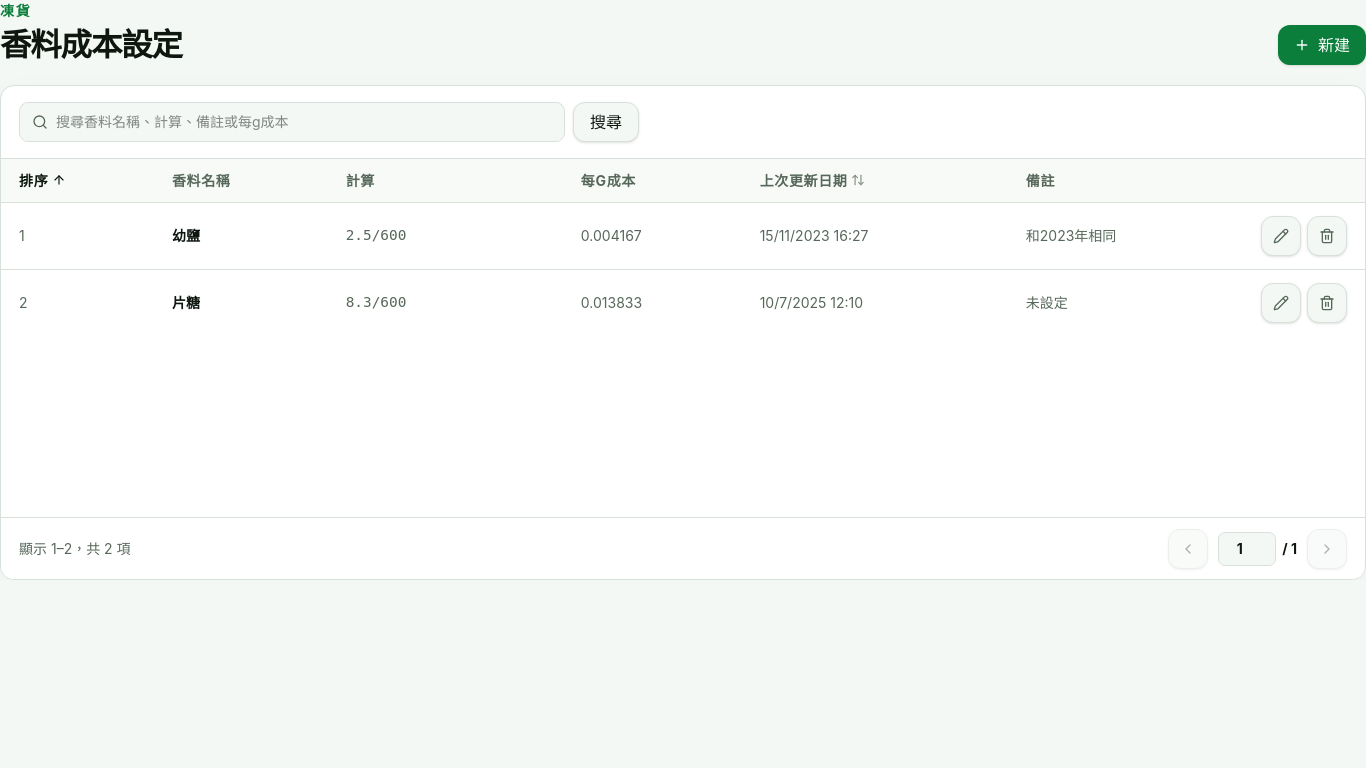
Test case: Seasoning cost settings page › opens the edit panel and updates calculation and remark
This screenshot has width=1366, height=768.
Expected: the text "幼鹽" is shown, top-left (172, 227), bottom-right (200, 244)
Click the button named "編輯" in the row of "幼鹽".
click(1281, 236)  # box top-left (1261, 216), bottom-right (1301, 256)
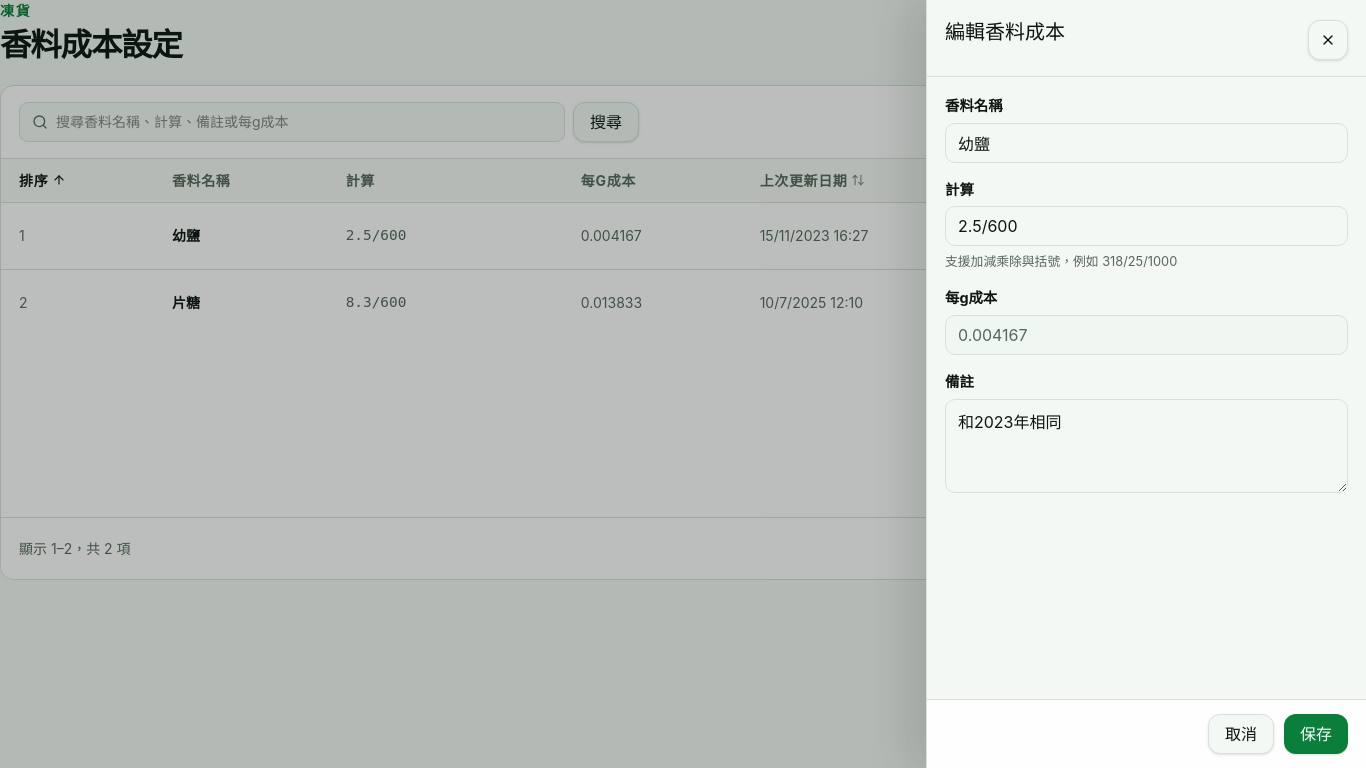
Result: the field with placeholder "例如：幼鹽" holds "幼鹽" at top-left (945, 123), bottom-right (1348, 163)
Result: the field with placeholder "例如：2.5/600" holds "2.5/600"
Result: the text box with placeholder "輸入備註" holds "和2023年相同" at top-left (945, 399), bottom-right (1348, 493)
Replace the text in the field with placeholder "例如：2.5/600" with "3/600" at (1146, 226), box top-left (945, 206), bottom-right (1348, 246)
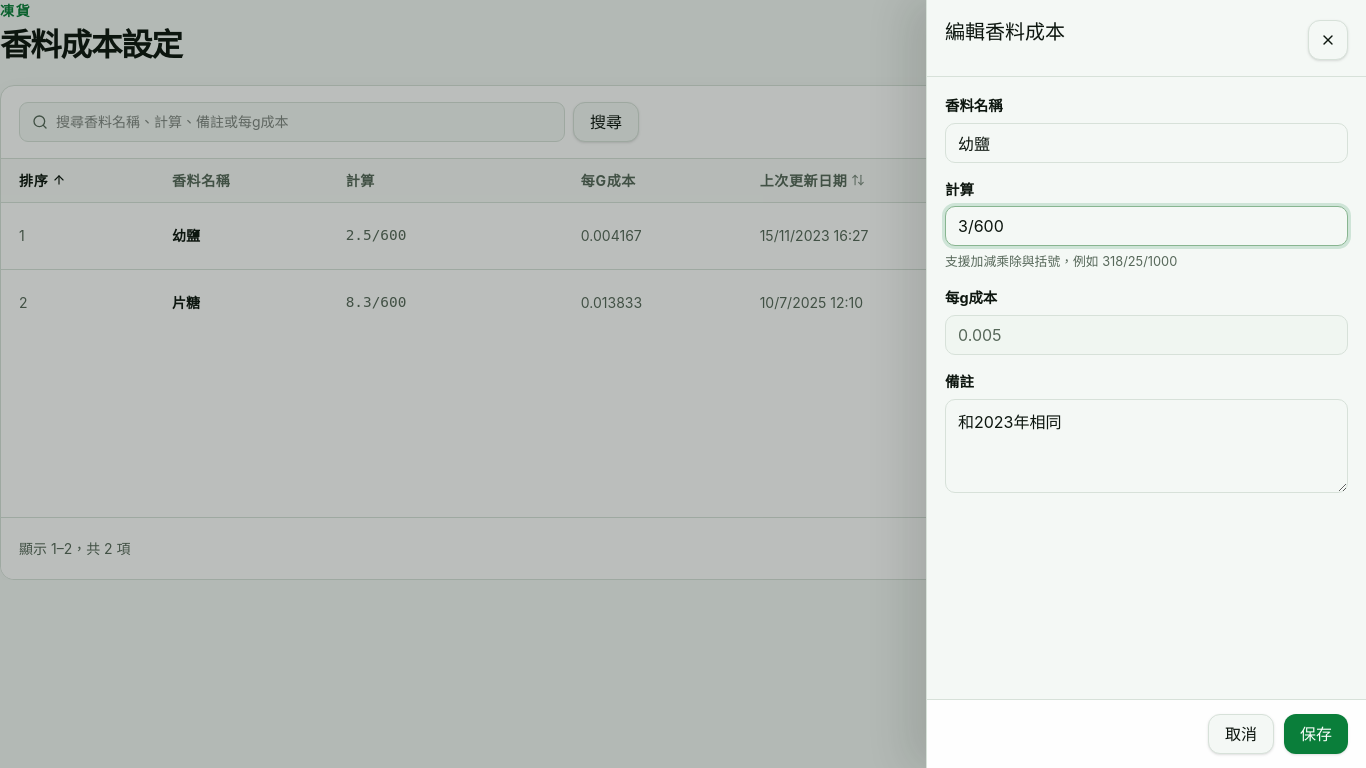
Result: the field showing "0.005" is shown at top-left (945, 315), bottom-right (1348, 355)
Replace the text in the text box with placeholder "輸入備註" with "更新備註" at (1146, 446), box top-left (945, 399), bottom-right (1348, 493)
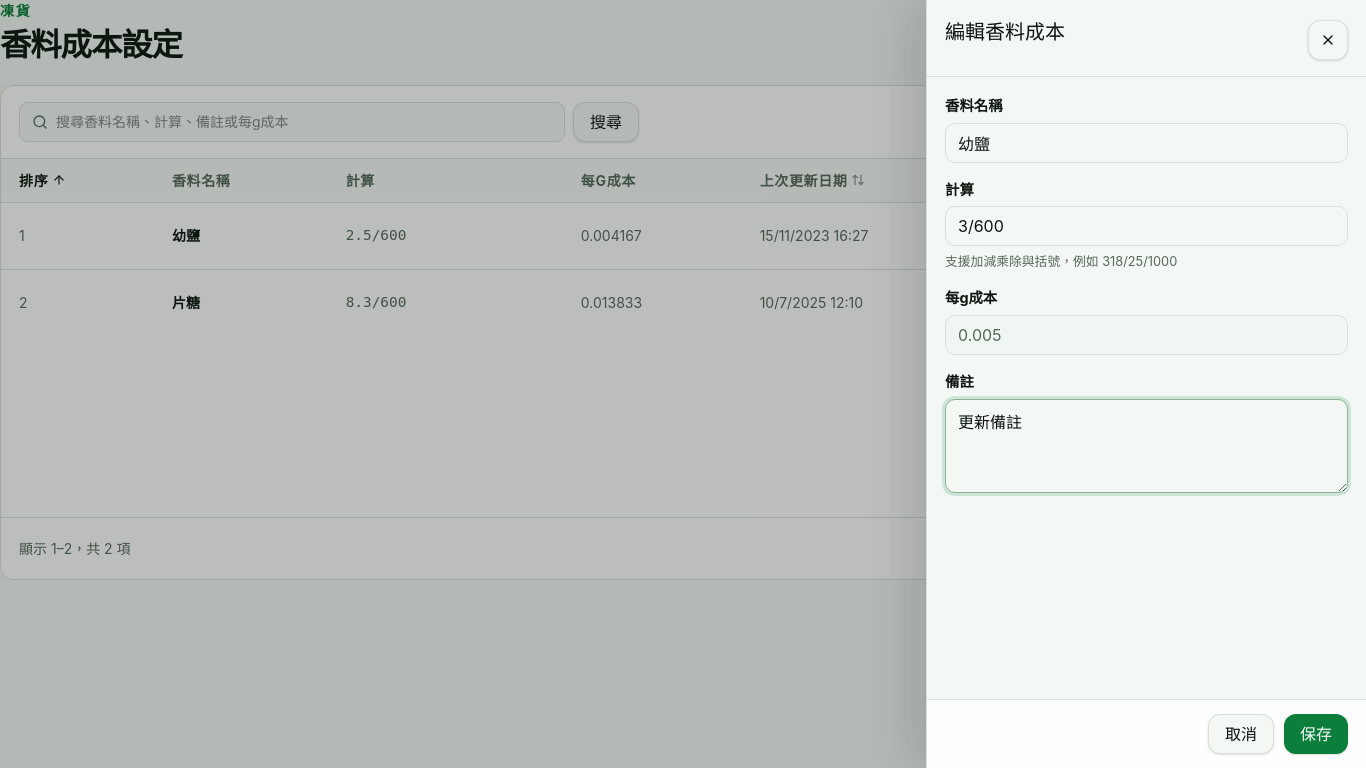
Click the button "保存".
click(1316, 734)  # box top-left (1284, 714), bottom-right (1348, 754)
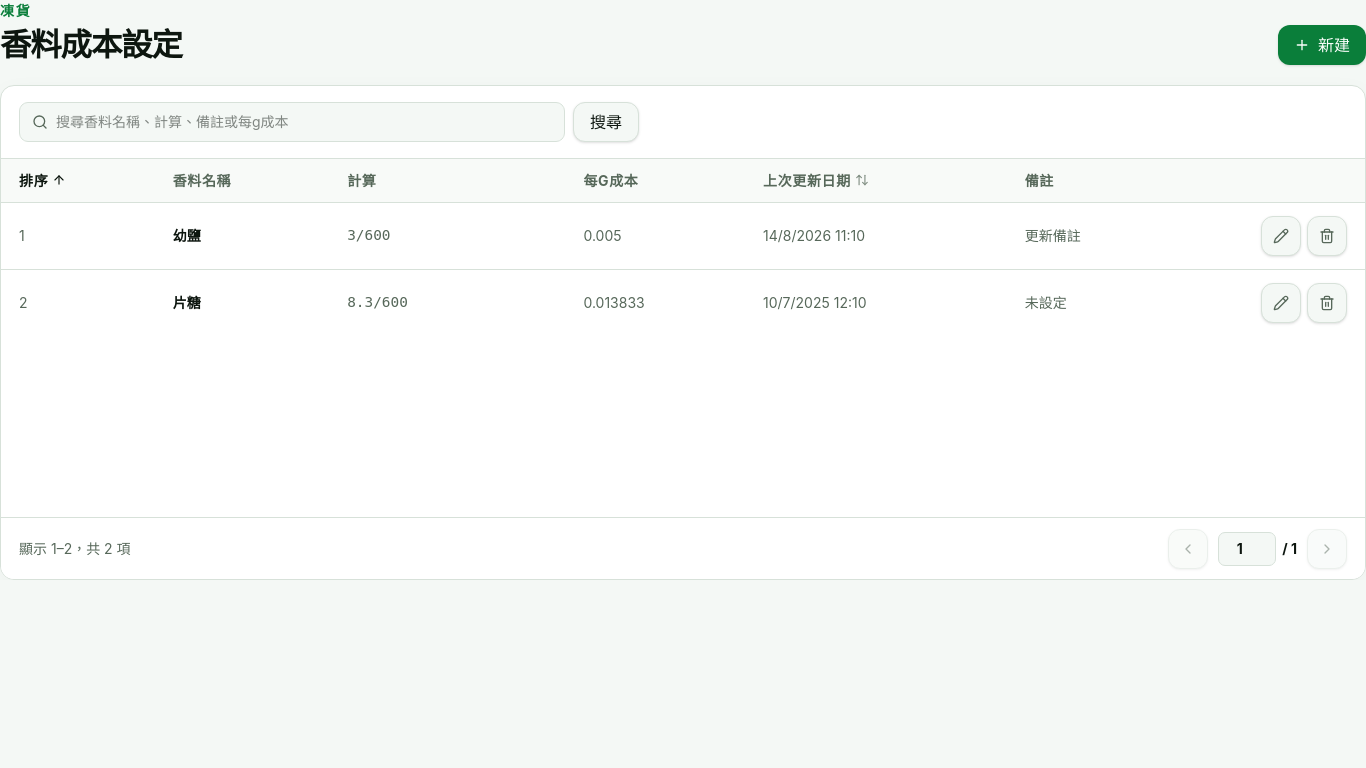
Result: the text "0.005" is shown at top-left (565, 202), bottom-right (745, 269)
Result: the text "更新備註" is shown at top-left (1007, 202), bottom-right (1243, 269)
Result: the text "2.5/600" is gone
